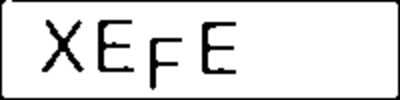E: (198, 18, 245, 78), (94, 17, 141, 75)
F: (146, 33, 184, 94)
X: (40, 14, 90, 75)
